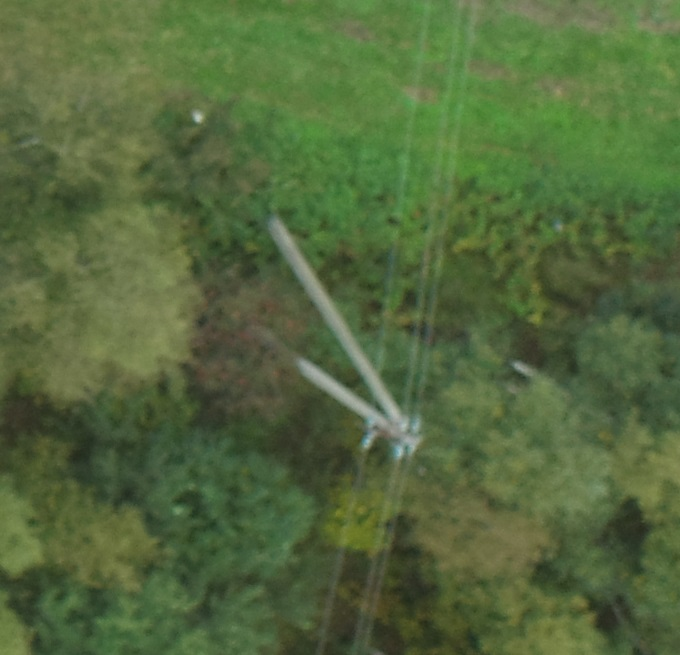opora: (225, 213, 434, 458)
